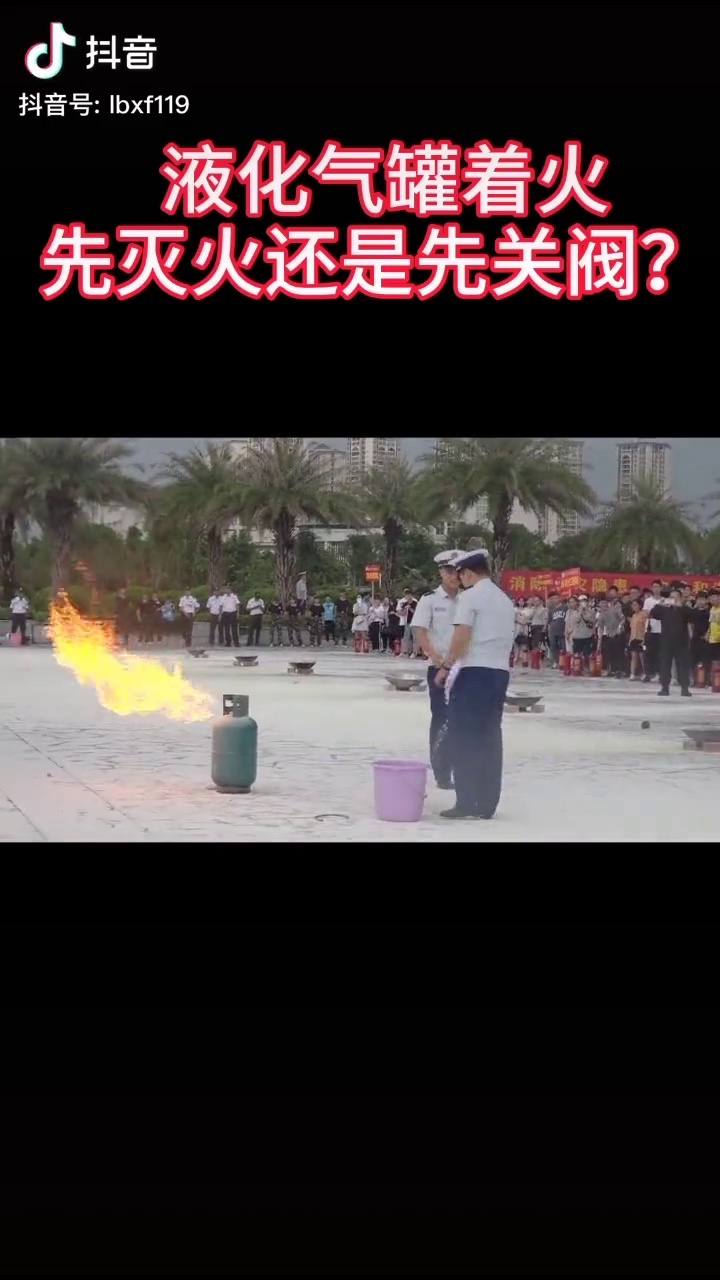fire: (41, 596, 210, 714)
